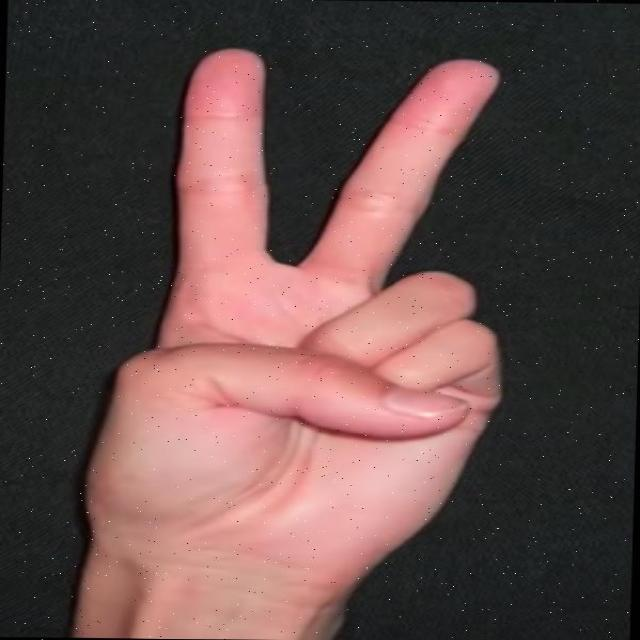V: (79, 36, 528, 607)
